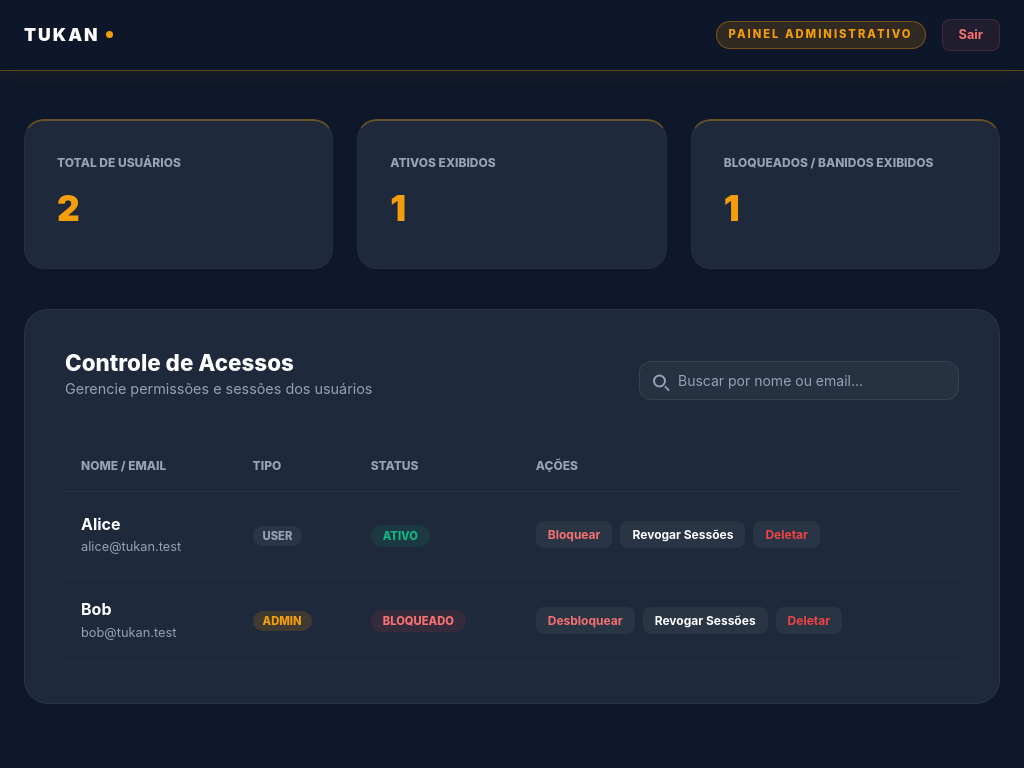
Test: DashboardView — admin search › ignores an out-of-order response so the most recent search wins
The image size is (1024, 768).
Note: Dispatch search A, then search B — both in-flight.
Type "an" into the search field with class "search-input" at [799, 381], box [639,361,959,400]
Wait 350 ms
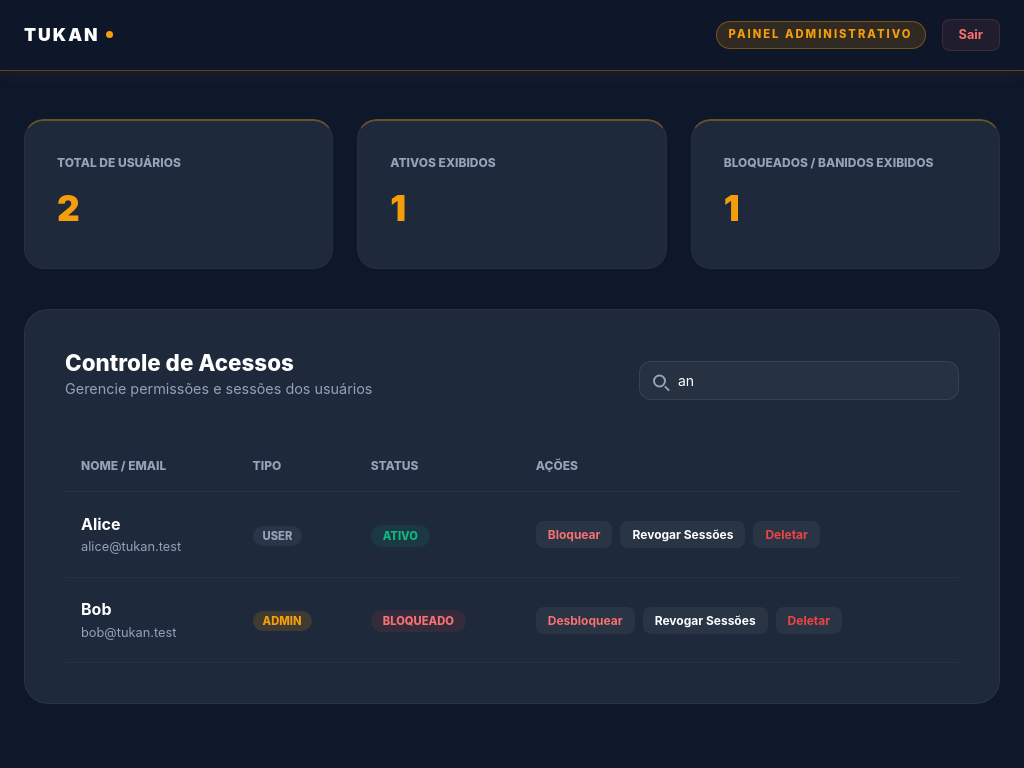
Replace the text in the search field with class "search-input" with "bi" at [799, 381], box [639,361,959,400]
Wait 350 ms
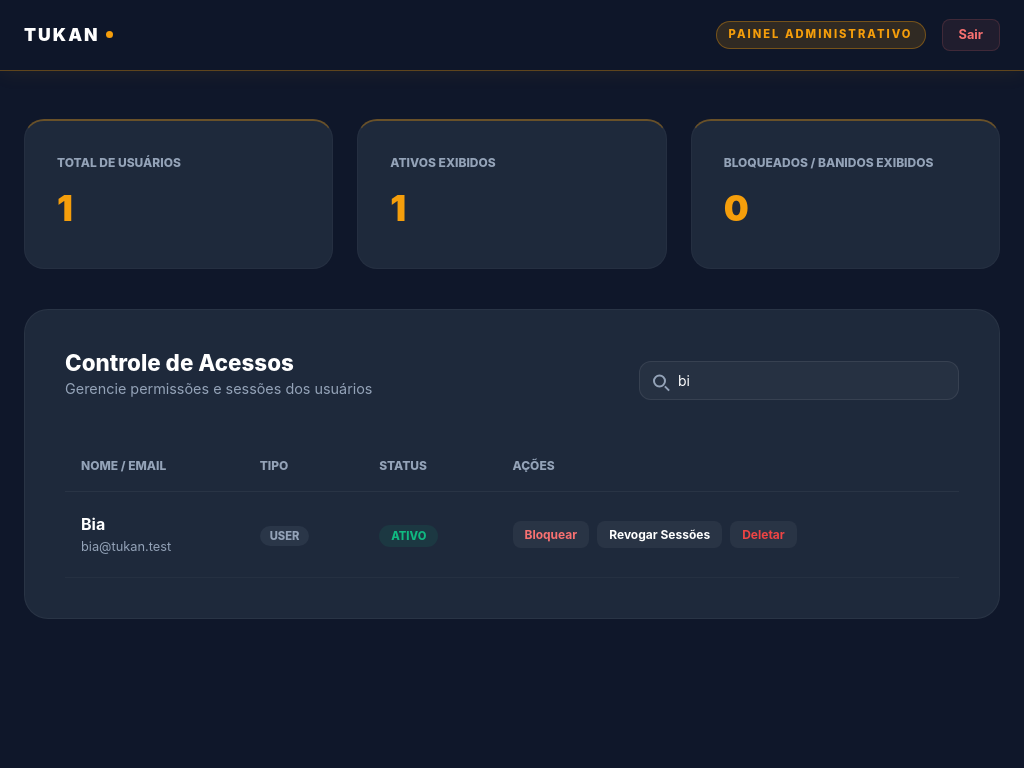
Check: the text "Bia" is shown, box [81,514,105,534]
